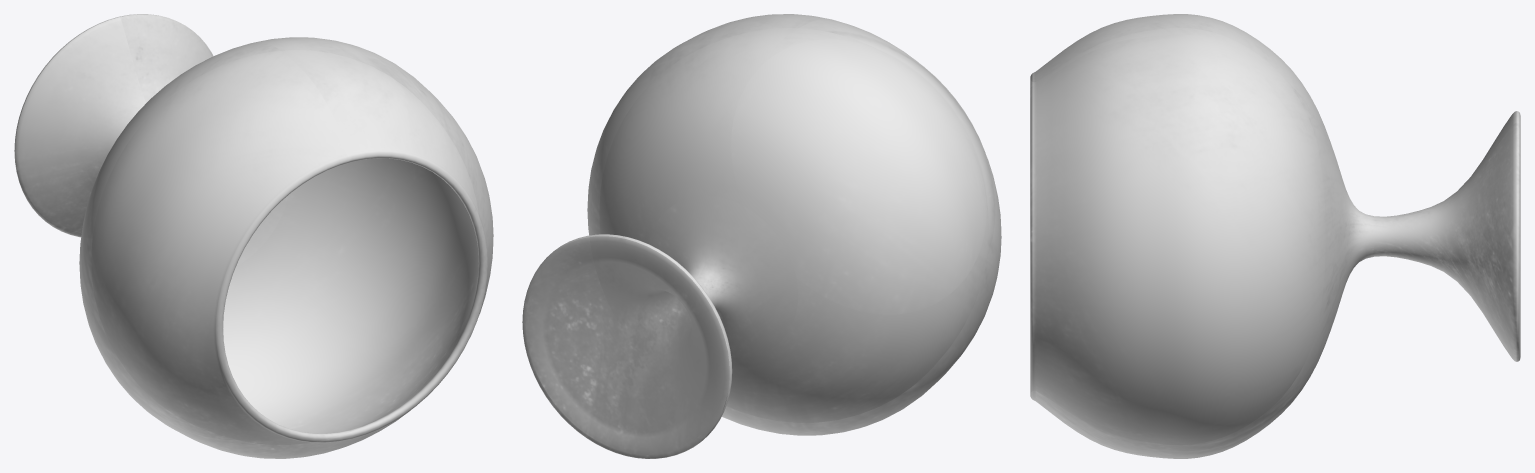
File: glass.glb
The picture shows the model from 3 angles, left to right: view 1: azimuth 30°, elevation 25°; view 2: azimuth 150°, elevation 25°; view 3: azimuth 270°, elevation 25°; orthographic projection. The views are drawn at different scales.
Visible parts, largest first — view 1: Cylinder.011_Material_0; view 2: Cylinder.011_Material_0; view 3: Cylinder.011_Material_0.
Part boxes in pixels (<box>): Cylinder.011_Material_0: <box>14,14,493,458</box>; Cylinder.011_Material_0: <box>522,14,1001,458</box>; Cylinder.011_Material_0: <box>1030,14,1520,458</box>.
Size of the model in its own units: 1.13 by 1.13 by 1.24.
1 material, 1 textured.
